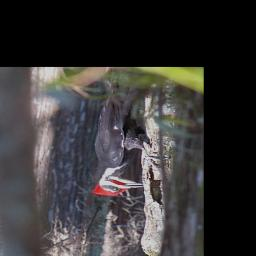Woodpecker: (89, 74, 171, 196)
